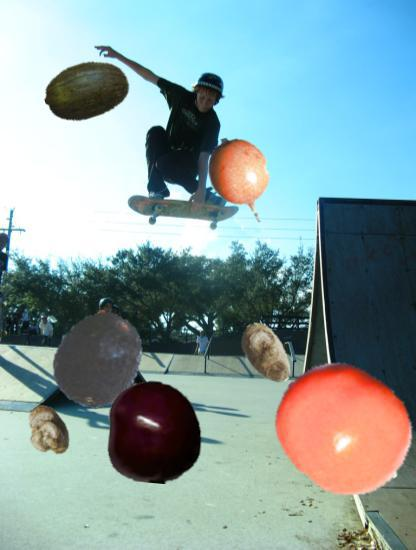Avocado: (48, 310, 148, 410)
Cherry: (104, 381, 207, 484)
Clementine: (272, 357, 415, 500)
Ginger: (233, 320, 300, 387), (20, 405, 75, 460)
Granadilla: (196, 136, 286, 226)
Melon: (44, 47, 131, 134)
